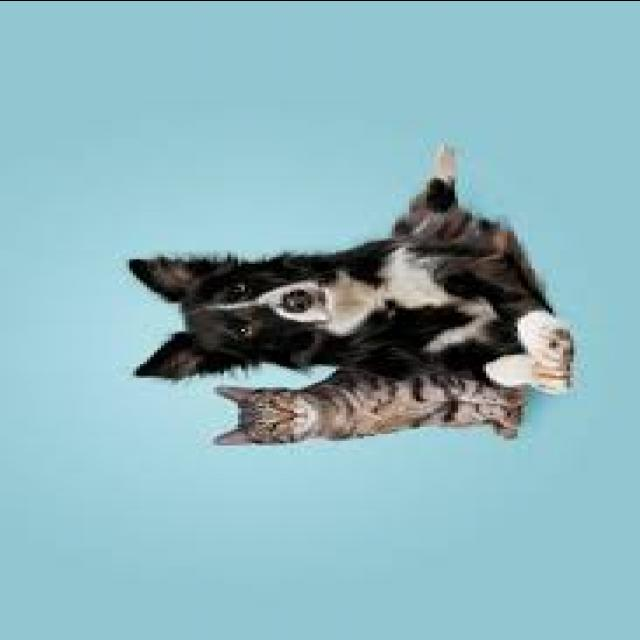cat: (202, 366, 536, 454)
dog: (114, 142, 596, 390)
